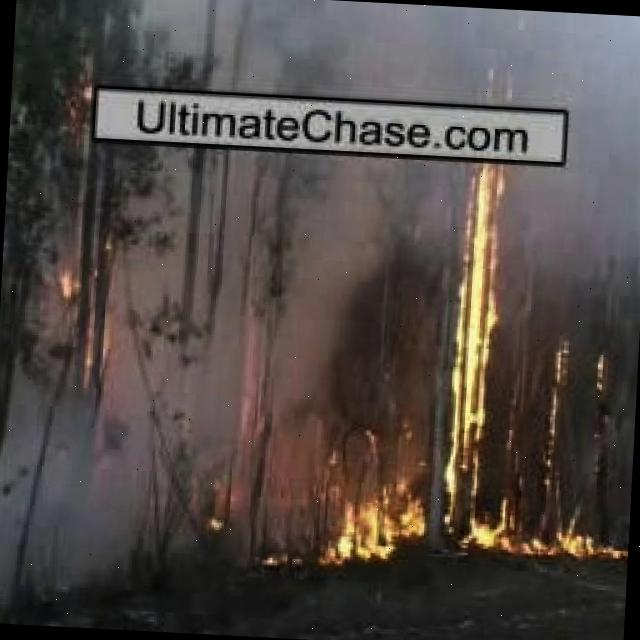fire: (439, 118, 534, 550), (40, 205, 130, 388), (302, 454, 431, 570), (531, 530, 628, 564), (64, 74, 102, 128)
